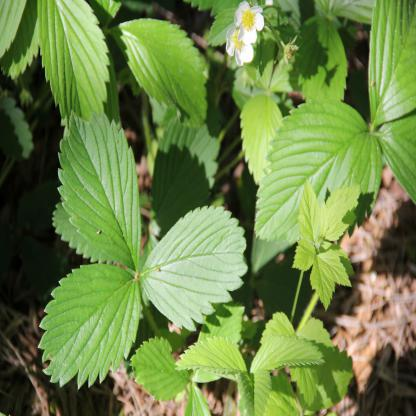Strawberry leaf: (252, 101, 382, 240), (141, 193, 249, 337), (35, 261, 145, 387), (56, 109, 142, 261), (36, 2, 109, 119)
